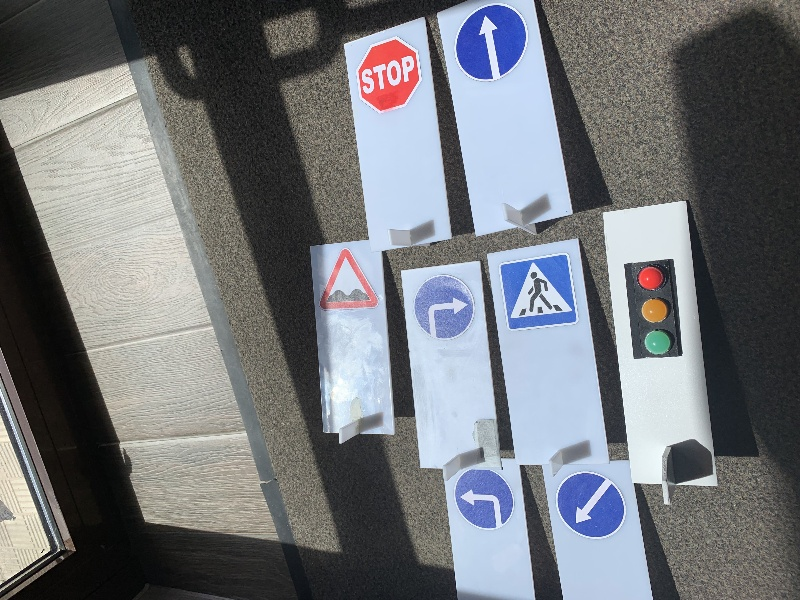Left: (449, 466, 516, 530)
Nerov: (319, 248, 381, 313)
Right: (412, 274, 475, 341)
Stop: (360, 35, 421, 111)
forw: (457, 4, 527, 80)
pesh: (496, 253, 578, 332)
prep: (554, 470, 628, 541)
